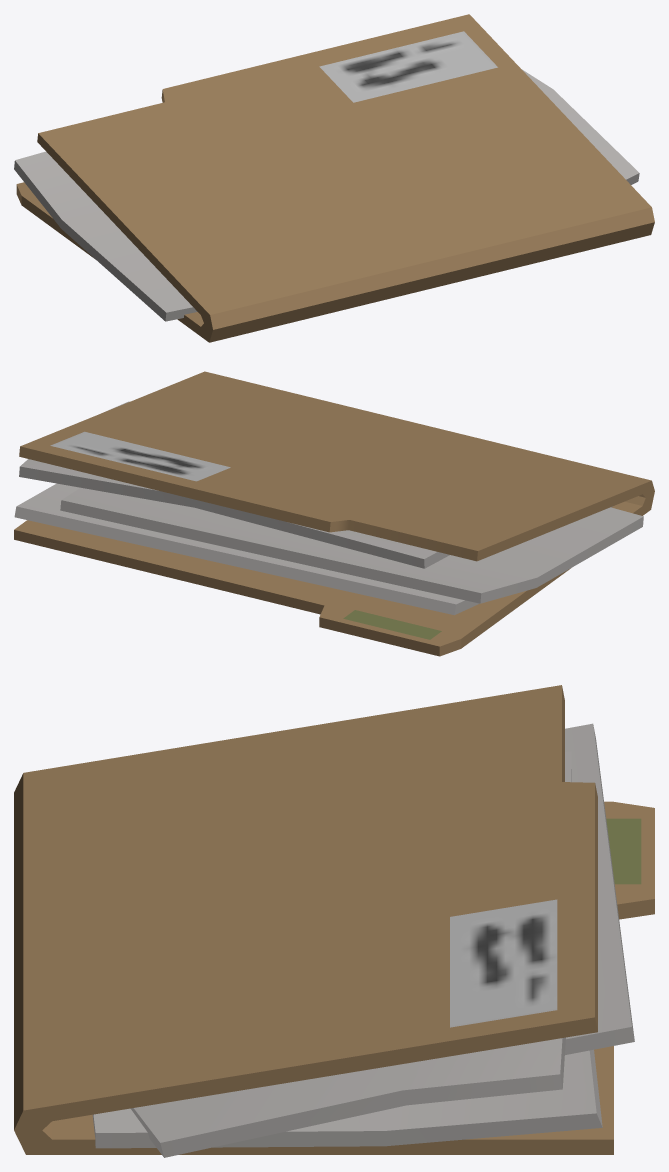
The model's file is SM_Prop_Folder_Manila_02.fbx.
3 renders of one model, top to bottom at view 1: azimuth 30°, elevation 25°; view 2: azimuth 150°, elevation 25°; view 3: azimuth 270°, elevation 25°, orthographic. The views are drawn at different scales.
Visible parts, largest first — view 1: SM_Prop_Folder_Manila_02; view 2: SM_Prop_Folder_Manila_02; view 3: SM_Prop_Folder_Manila_02.
Boxes of the visible parts, x1,y1,x2,y2 form: SM_Prop_Folder_Manila_02: [14, 14, 654, 342]; SM_Prop_Folder_Manila_02: [14, 371, 654, 656]; SM_Prop_Folder_Manila_02: [14, 685, 654, 1157].
Bounding box in the file's own units: 42.49 × 7.26 × 30.66.
